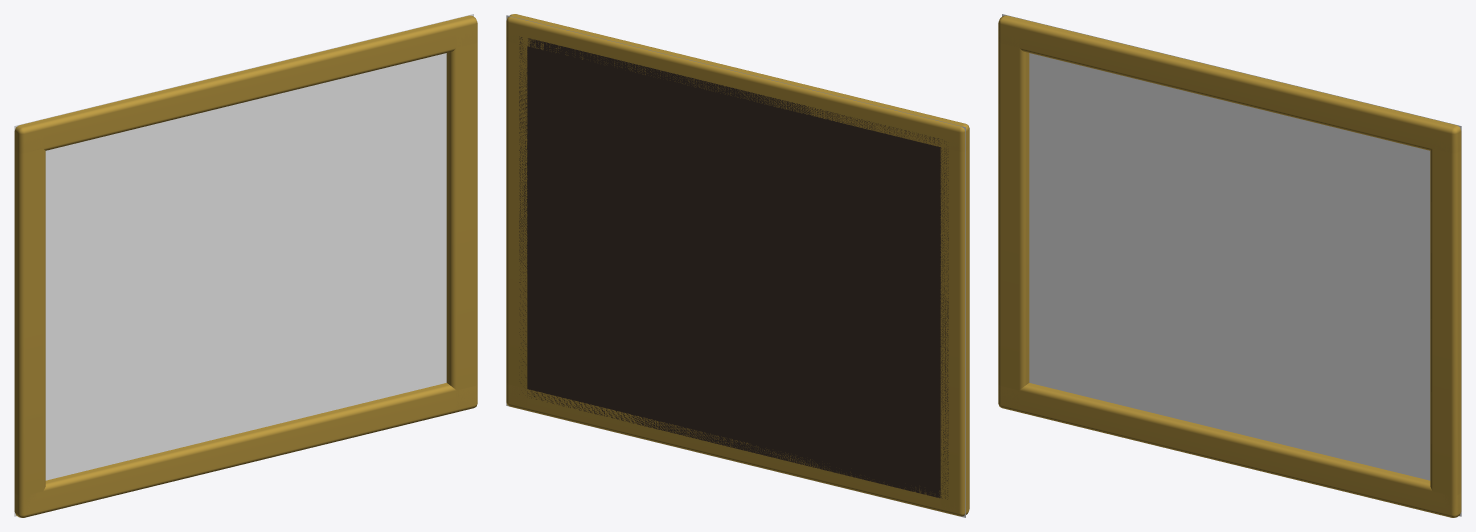
Rendered from furn_art_stilllife.glb.
3 views of the same model, side by side, from view 1: azimuth 30°, elevation 25°; view 2: azimuth 150°, elevation 25°; view 3: azimuth 330°, elevation 25° (orthographic).
Visible parts, largest first — view 1: furn_art_stilllife_pic, furn_art_stilllife_main; view 2: furn_art_stilllife_main, furn_art_stilllife_pic; view 3: furn_art_stilllife_pic, furn_art_stilllife_main.
Boxes of the visible parts, x1,y1,x2,y2 form: furn_art_stilllife_pic: [14, 14, 473, 516]; furn_art_stilllife_main: [14, 15, 477, 517]; furn_art_stilllife_main: [506, 14, 969, 516]; furn_art_stilllife_pic: [506, 15, 965, 517]; furn_art_stilllife_pic: [1002, 14, 1461, 516]; furn_art_stilllife_main: [998, 15, 1461, 517].
Bounding box in the file's own units: 2 × 1.62 × 0.06.
